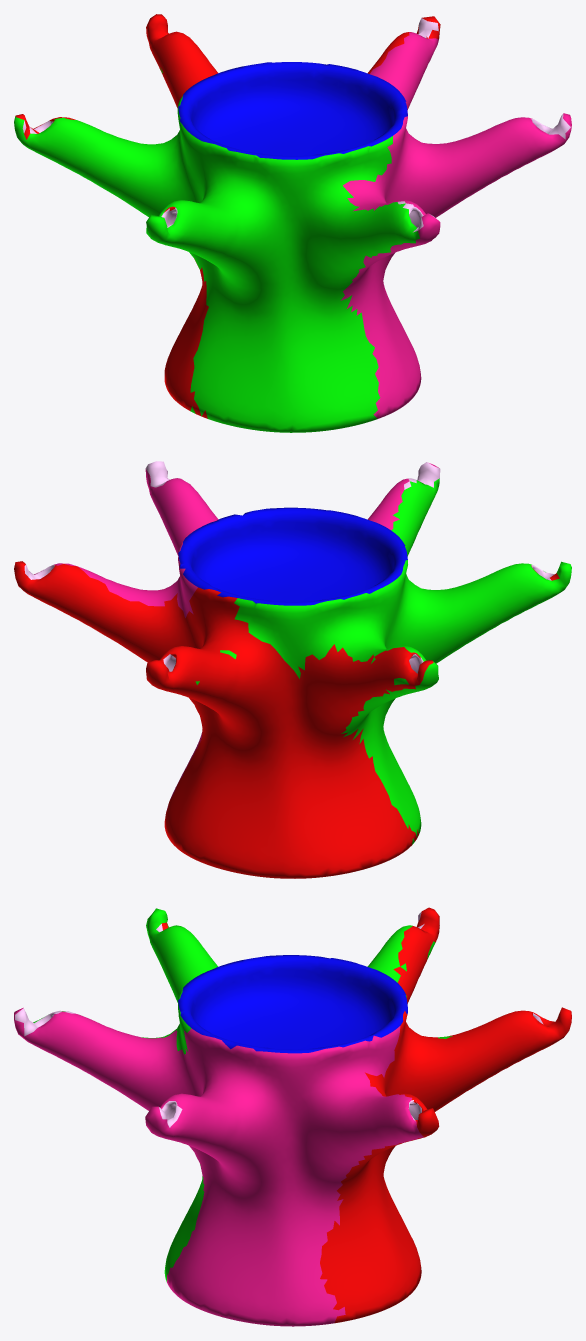
Rendered from model_23773_segmented.obj.
The picture shows the model from 3 angles, top to bottom: view 1: azimuth 30°, elevation 25°; view 2: azimuth 150°, elevation 25°; view 3: azimuth 270°, elevation 25°; orthographic projection.
Bounding box in the file's own units: 147 × 89.02 × 167.
